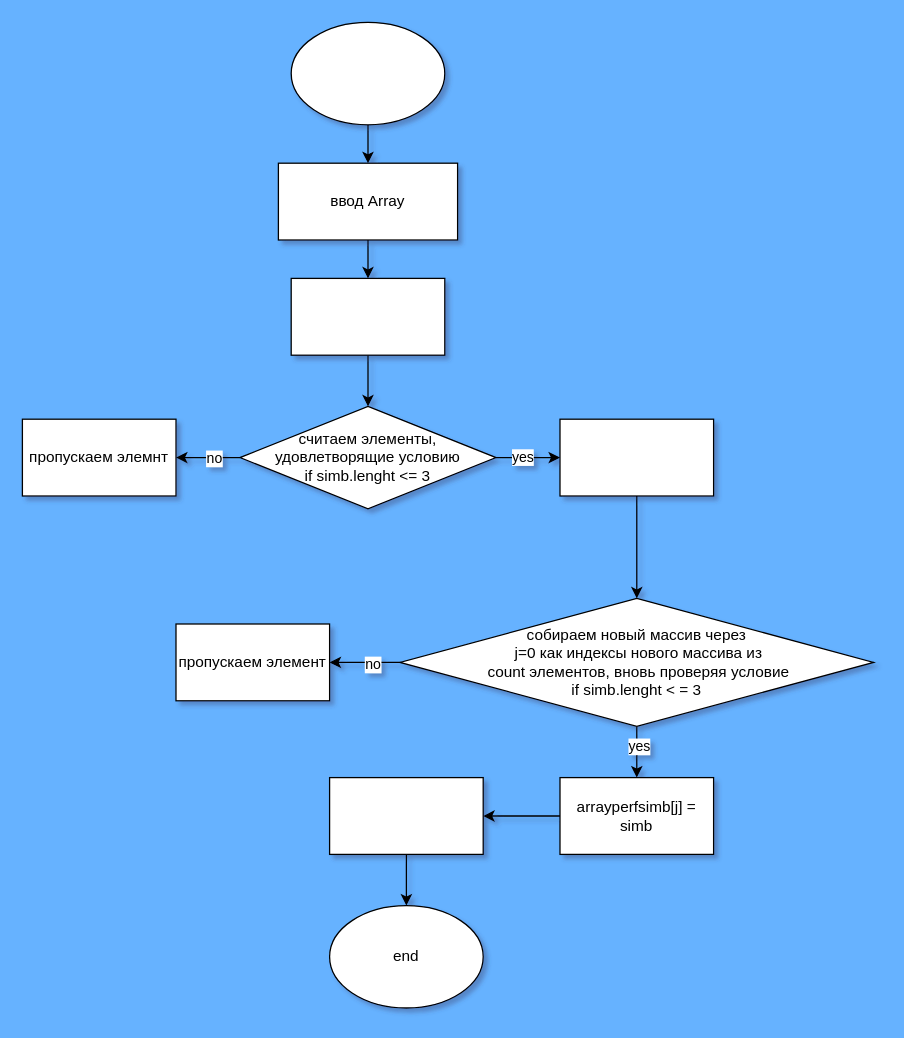
Some shapes in this 904 by 1038 pixel diagram are drawn without their labels. Here are the shapes that lost their labels. From the top down, the centre of each, then its label:
At point 367,73: "начало".
At point 367,316: "перебираем элементы массива for (i=0, i<array.lenght, i++)".
At point 636,457: "count++".
At point 405,815: "выводим новый массив через void print".
